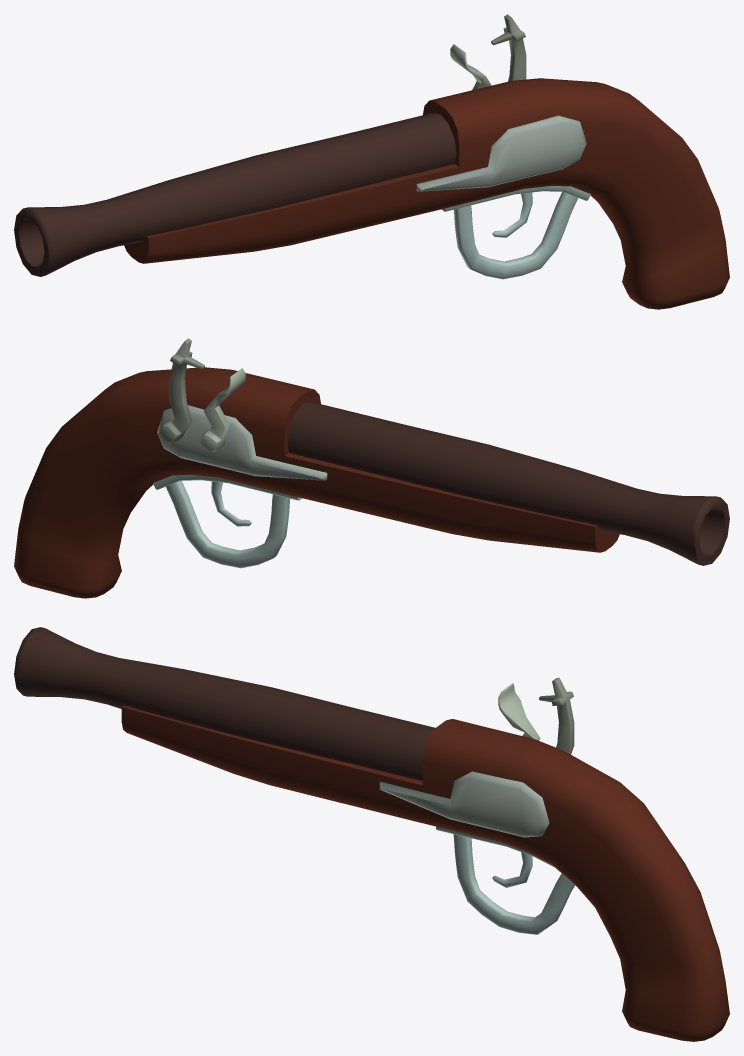
The model's file is pistol.fbx.
3 views of the same model, one above another, from view 1: azimuth 30°, elevation 25°; view 2: azimuth 150°, elevation 25°; view 3: azimuth 330°, elevation 25° (orthographic).
Parts seen in each view (by area): view 1: Plane; view 2: Plane; view 3: Plane.
Boxes of the visible parts, x1=… form: Plane: x1=14, y1=14, x2=729, y2=309; Plane: x1=14, y1=338, x2=729, y2=598; Plane: x1=14, y1=627, x2=729, y2=1041.
Size of the model in its own units: 1510 by 623 by 204.
